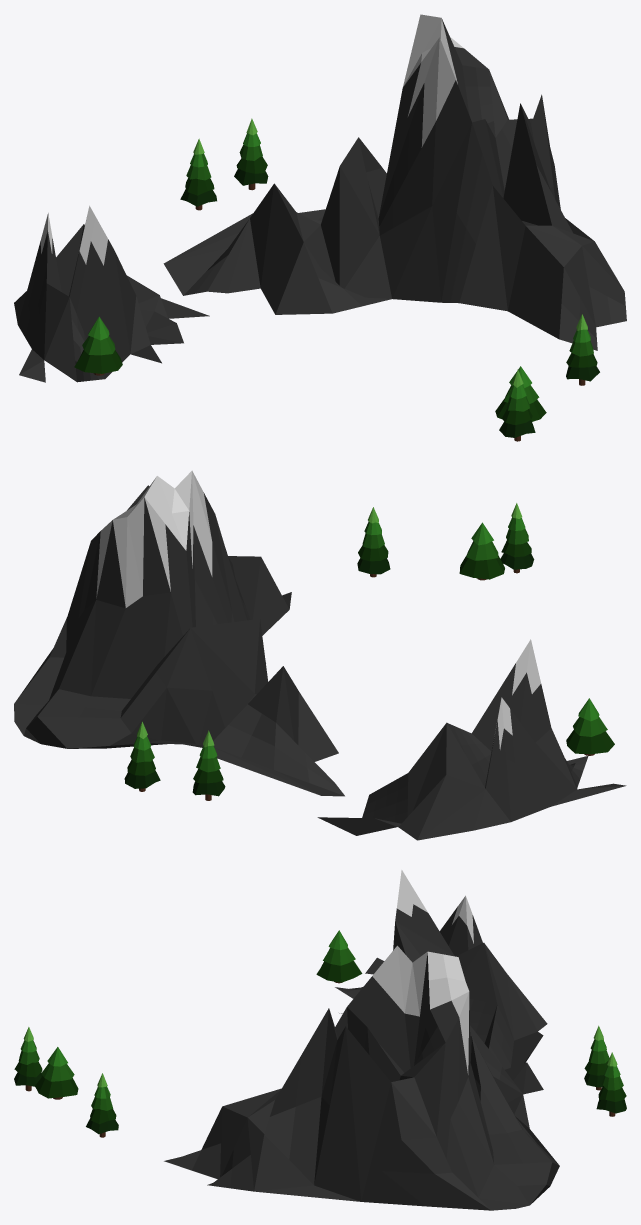
File: berg_objekte.fbx
3 renders of one model, top to bottom at view 1: azimuth 30°, elevation 25°; view 2: azimuth 150°, elevation 25°; view 3: azimuth 270°, elevation 25°, orthographic. The views are drawn at different scales.
Visible parts, largest first — view 1: Plane.050, Plane.051, Cone.067, Cone.065, Cone.064, Cone.063, Cone.062, Cone.066; view 2: Plane.050, Plane.051, Cone.067, Cone.066, Cone.063, Cone.064, Cone.065, Cone.062; view 3: Plane.050, Plane.051, Cone.066, Cone.067, Cone.063, Cone.064, Cone.065, Cone.062.
Boxes of the visible parts, x1=… form: Plane.050: x1=163, y1=14, x2=626, y2=350; Plane.051: x1=14, y1=205, x2=209, y2=382; Cone.067: x1=74, y1=316, x2=122, y2=375; Cone.065: x1=499, y1=369, x2=535, y2=441; Cone.064: x1=566, y1=314, x2=599, y2=385; Cone.063: x1=234, y1=118, x2=268, y2=190; Cone.062: x1=180, y1=138, x2=216, y2=210; Cone.066: x1=495, y1=366, x2=546, y2=421; Plane.050: x1=14, y1=470, x2=344, y2=796; Plane.051: x1=317, y1=639, x2=626, y2=840; Cone.067: x1=566, y1=698, x2=614, y2=755; Cone.066: x1=459, y1=522, x2=504, y2=580; Cone.063: x1=124, y1=721, x2=160, y2=791; Cone.064: x1=357, y1=507, x2=390, y2=577; Cone.065: x1=500, y1=503, x2=534, y2=573; Cone.062: x1=192, y1=730, x2=225, y2=800; Plane.050: x1=164, y1=945, x2=559, y2=1210; Plane.051: x1=335, y1=870, x2=547, y2=1069; Cone.066: x1=35, y1=1047, x2=78, y2=1099; Cone.067: x1=316, y1=930, x2=362, y2=983; Cone.063: x1=596, y1=1052, x2=626, y2=1116; Cone.064: x1=86, y1=1073, x2=118, y2=1137; Cone.065: x1=14, y1=1027, x2=42, y2=1091; Cone.062: x1=584, y1=1025, x2=609, y2=1090.
Bounding box in the file's own units: 144 × 67.29 × 151.
